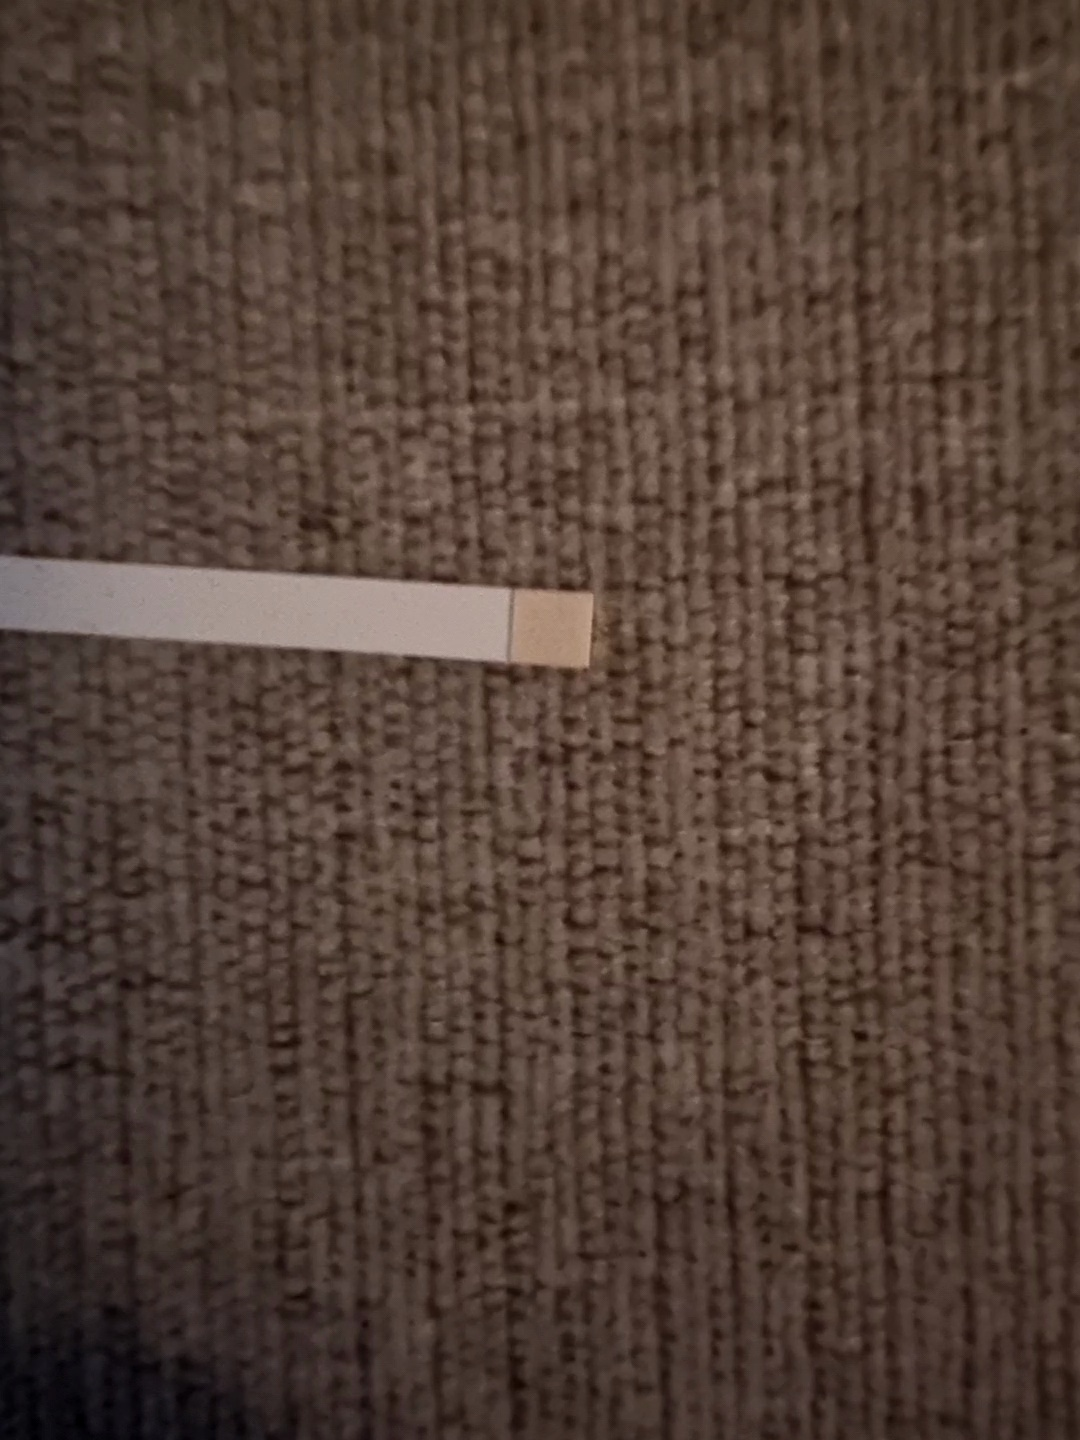keto-tip: (503, 578, 600, 676)
